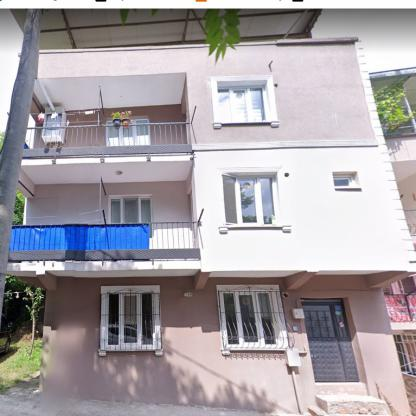door: (301, 298, 358, 382)
window: (221, 291, 281, 348), (106, 290, 156, 350), (223, 175, 278, 225), (218, 84, 268, 124), (109, 194, 152, 223), (107, 119, 150, 146), (333, 175, 355, 188)
